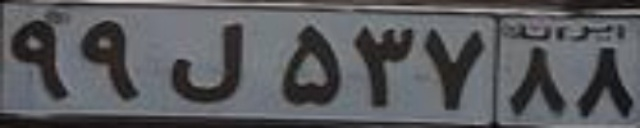3: (352, 25, 414, 109)
5: (282, 25, 340, 106)
7: (424, 24, 486, 111)
8: (506, 46, 565, 117), (577, 45, 633, 118)
9: (82, 16, 143, 99), (10, 18, 65, 99)
lam: (166, 21, 241, 102)
